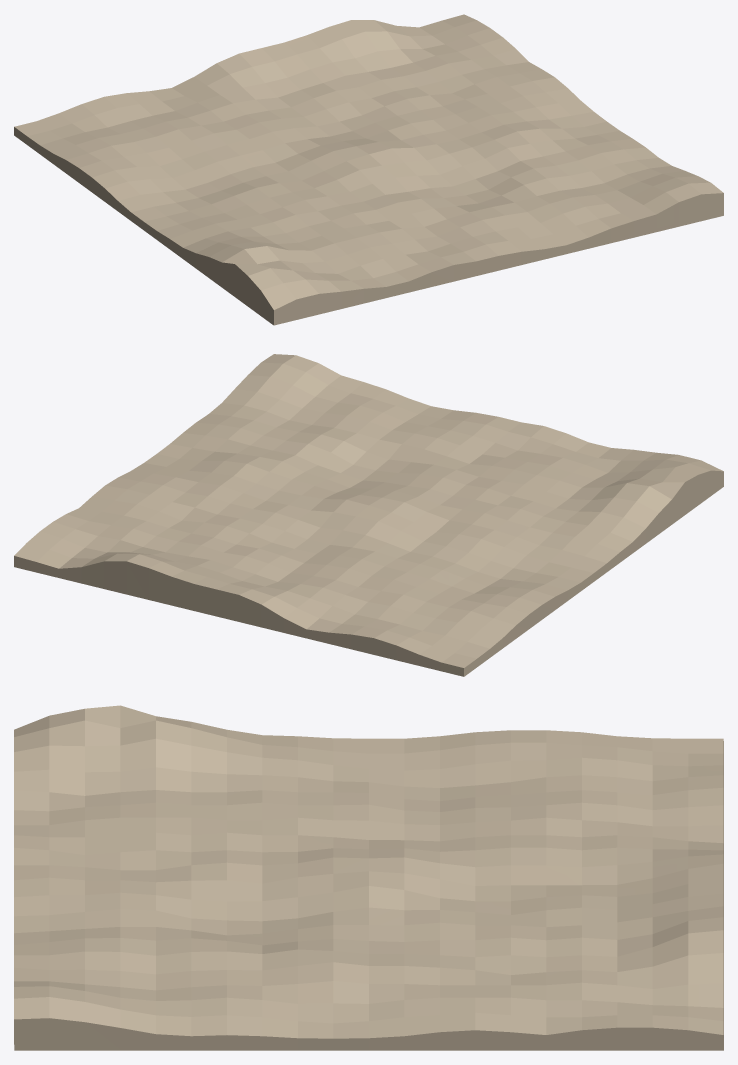
Rendered from ground3.glb.
The picture shows the model from 3 angles, top to bottom: view 1: azimuth 30°, elevation 25°; view 2: azimuth 150°, elevation 25°; view 3: azimuth 270°, elevation 25°; orthographic projection. The views are drawn at different scales.
Visible parts, largest first — view 1: SCENE-BOX.011; view 2: SCENE-BOX.011; view 3: SCENE-BOX.011.
Boxes of the visible parts, left/top/right/bottom form: SCENE-BOX.011: left=14, top=14, right=723, bottom=325; SCENE-BOX.011: left=14, top=354, right=723, bottom=676; SCENE-BOX.011: left=14, top=705, right=723, bottom=1050.
Bounding box in the file's own units: 10 × 0.7052 × 10.
